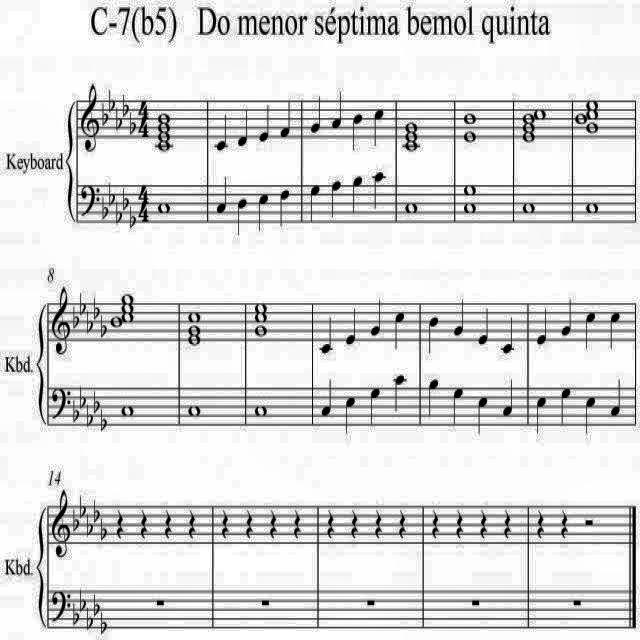Bass-clef: (50, 589, 66, 623), (52, 386, 66, 422), (81, 182, 95, 218)
Bemol: (101, 101, 110, 130), (72, 398, 80, 424), (108, 88, 116, 113), (72, 304, 80, 328), (100, 408, 108, 432), (72, 508, 80, 532), (115, 108, 123, 131), (129, 112, 137, 134), (86, 607, 94, 629), (122, 92, 129, 116), (109, 180, 115, 206), (87, 308, 93, 334), (94, 293, 100, 319), (94, 388, 100, 414), (101, 196, 107, 220), (123, 186, 129, 210), (130, 205, 136, 229), (80, 292, 86, 316), (101, 314, 107, 338), (87, 402, 93, 426), (80, 494, 86, 518), (87, 512, 93, 536), (94, 498, 100, 522), (80, 588, 86, 612), (101, 610, 107, 634), (115, 200, 121, 222), (80, 386, 86, 408), (101, 519, 107, 541), (73, 603, 79, 625), (93, 594, 99, 616)
Full-note: (402, 119, 422, 153), (522, 112, 534, 144)
Full-rest: (156, 596, 167, 608), (260, 596, 270, 608), (366, 597, 378, 607), (470, 598, 480, 606)
Half-rest: (584, 516, 596, 530)
Quarter-note: (320, 316, 334, 356), (452, 298, 466, 336), (217, 174, 230, 214), (216, 112, 228, 152), (372, 170, 384, 210), (351, 172, 363, 212), (258, 192, 270, 232), (394, 372, 406, 412), (310, 95, 322, 134), (331, 89, 343, 128), (236, 107, 248, 145), (310, 185, 322, 223), (502, 316, 514, 354), (584, 313, 596, 351), (610, 312, 622, 350), (280, 100, 292, 136), (536, 308, 548, 344), (372, 109, 383, 147), (331, 180, 342, 218), (371, 297, 382, 335), (478, 307, 489, 345), (371, 387, 382, 425), (352, 112, 362, 152), (280, 188, 290, 228), (237, 196, 247, 236), (346, 306, 356, 346), (429, 316, 439, 356), (321, 378, 331, 418), (394, 311, 404, 349), (562, 298, 572, 336), (585, 397, 595, 435), (561, 388, 571, 426), (537, 397, 547, 435), (503, 378, 513, 416), (428, 378, 438, 416), (259, 104, 269, 140), (611, 378, 621, 414), (477, 398, 487, 434), (454, 388, 464, 424), (346, 398, 356, 434)
Quarter-rest: (116, 510, 124, 540), (140, 509, 148, 539), (164, 509, 172, 539), (188, 509, 196, 539), (246, 510, 254, 540), (375, 510, 383, 540), (398, 510, 406, 540), (504, 509, 512, 539), (270, 509, 278, 538), (350, 509, 358, 538), (222, 510, 230, 538), (294, 511, 302, 539), (432, 510, 440, 538), (456, 510, 464, 538), (480, 510, 488, 538), (537, 510, 545, 538), (328, 510, 334, 540), (562, 510, 568, 538)
Treble-clef: (74, 84, 100, 156), (50, 285, 68, 369), (50, 484, 64, 570)
